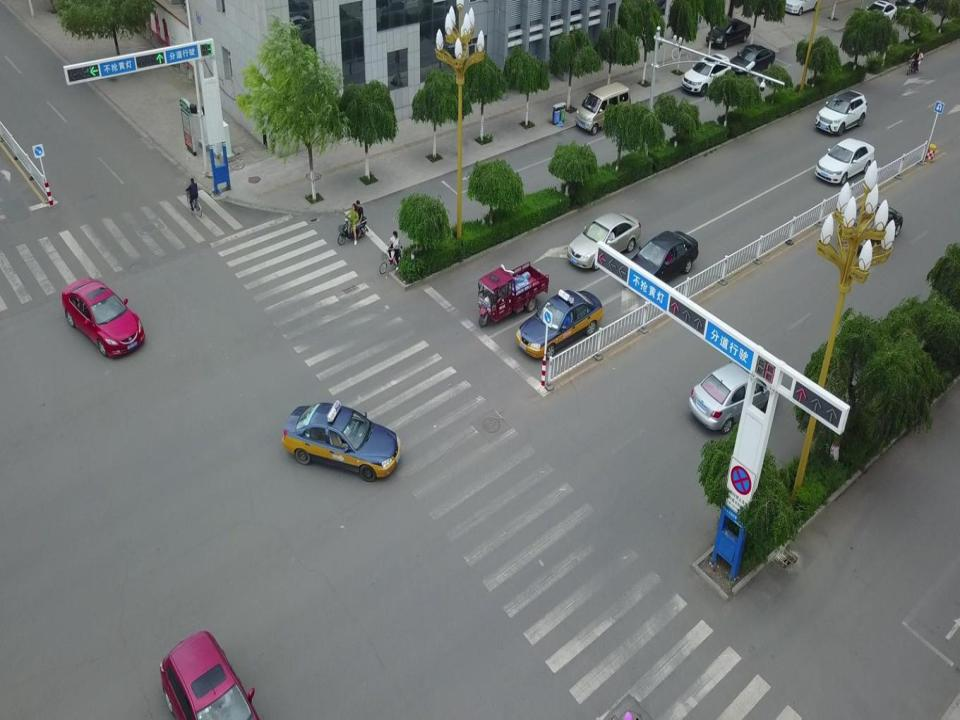car: (281, 400, 400, 483), (158, 629, 261, 720), (689, 356, 778, 436), (60, 278, 144, 360), (515, 288, 603, 360), (567, 211, 641, 272), (630, 230, 698, 288), (840, 203, 904, 260), (576, 80, 631, 136), (815, 138, 875, 186), (815, 88, 866, 136), (682, 52, 732, 96), (729, 43, 776, 78), (706, 18, 750, 49), (860, 0, 896, 26), (783, 0, 823, 15)
